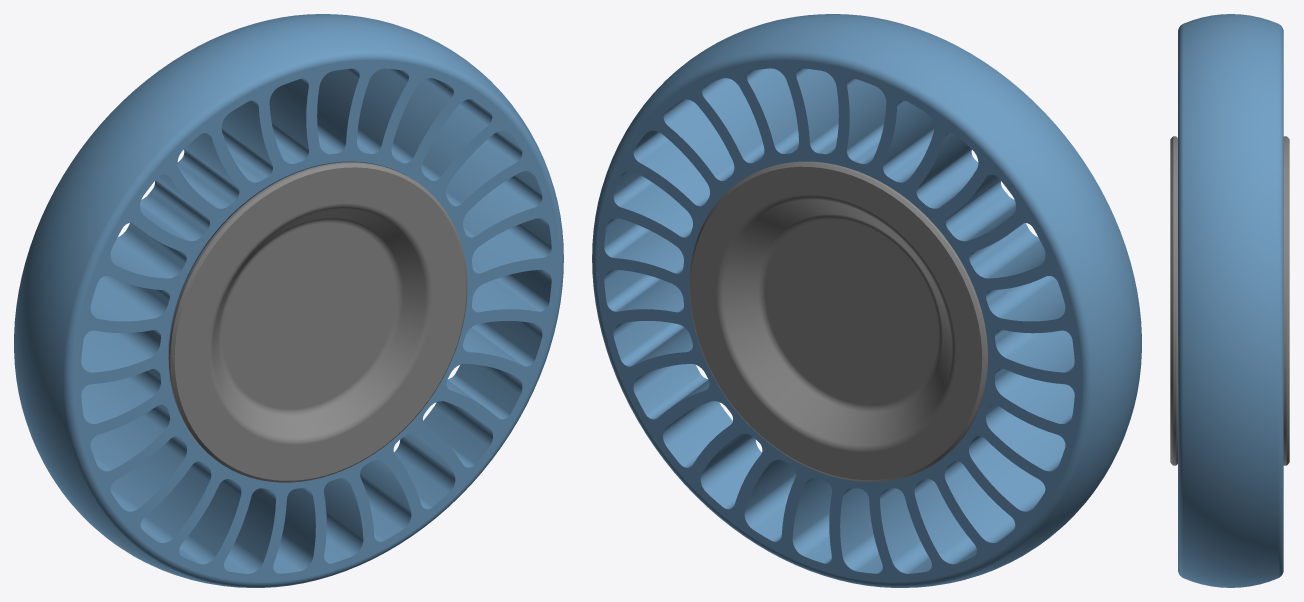
Rendered from wheel_r.dae.
3 renders of one model, left to right at view 1: azimuth 30°, elevation 25°; view 2: azimuth 150°, elevation 25°; view 3: azimuth 270°, elevation 25°, orthographic. The views are drawn at different scales.
Parts seen in each view (by area): view 1: wheel_r; view 2: wheel_r; view 3: wheel_r.
Part boxes in pixels (box(x1,y1,x2,y2)): wheel_r: box(14, 14, 563, 587); wheel_r: box(592, 14, 1141, 587); wheel_r: box(1170, 14, 1289, 587).
Bounding box in the file's own units: 0.19 × 0.0396 × 0.19.
